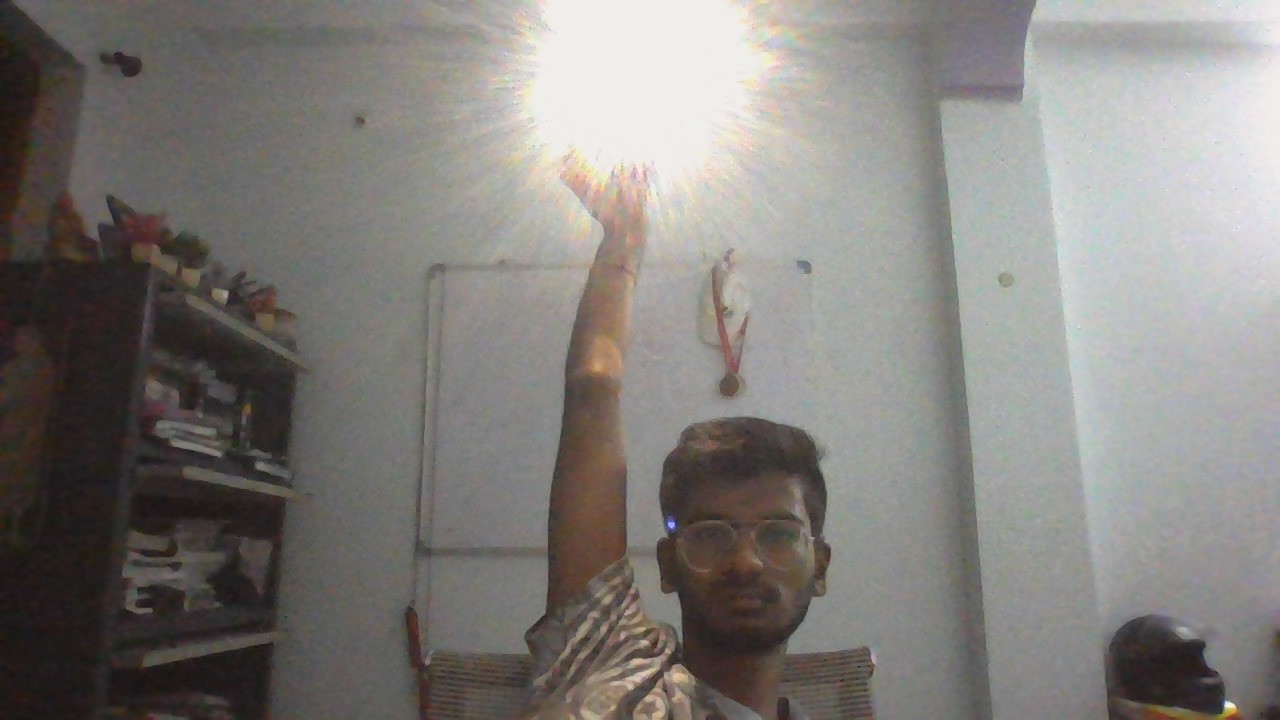Glare: (520, 1, 773, 169)
